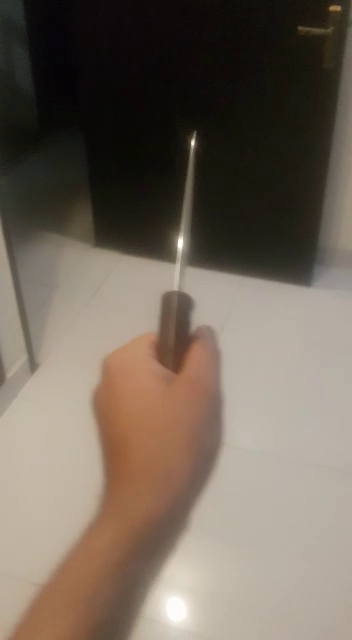knife: (54, 95, 329, 535)
